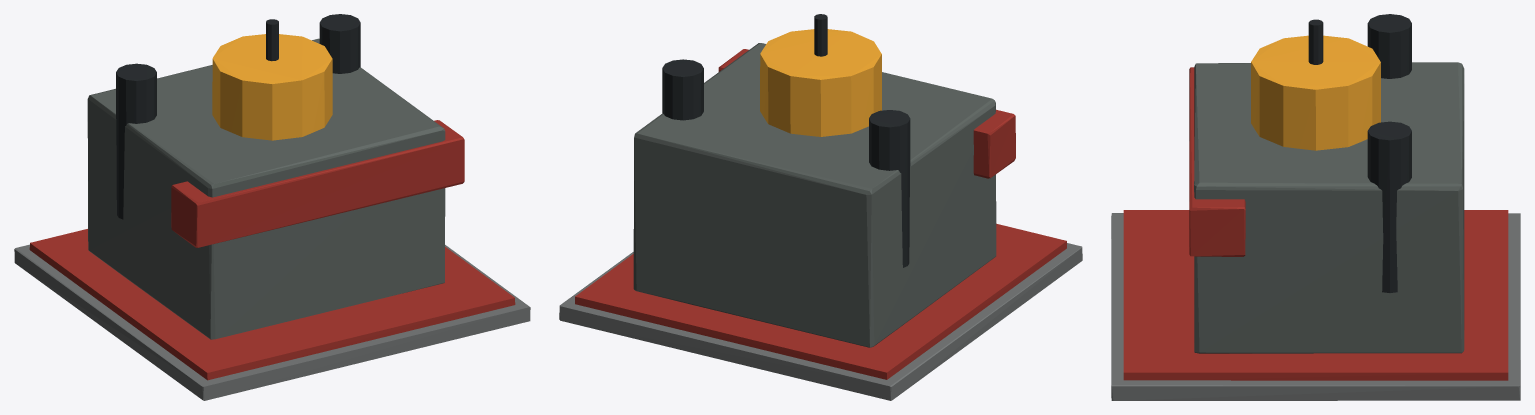
The model's file is SM_Soviet_SU_ConYard_LOD2.fbx.
3 views of the same model, side by side, from view 1: azimuth 30°, elevation 25°; view 2: azimuth 150°, elevation 25°; view 3: azimuth 270°, elevation 25° (orthographic). The views are drawn at different scales.
Parts seen in each view (by area): view 1: LOD02_SM_Soviet_SU_ConYard; view 2: LOD02_SM_Soviet_SU_ConYard; view 3: LOD02_SM_Soviet_SU_ConYard.
Part boxes in pixels (x1,y1,x2,y2): LOD02_SM_Soviet_SU_ConYard: (14, 14, 530, 400); LOD02_SM_Soviet_SU_ConYard: (559, 14, 1082, 400); LOD02_SM_Soviet_SU_ConYard: (1111, 14, 1520, 400).
Bounding box in the file's own units: 799 × 798 × 629.
